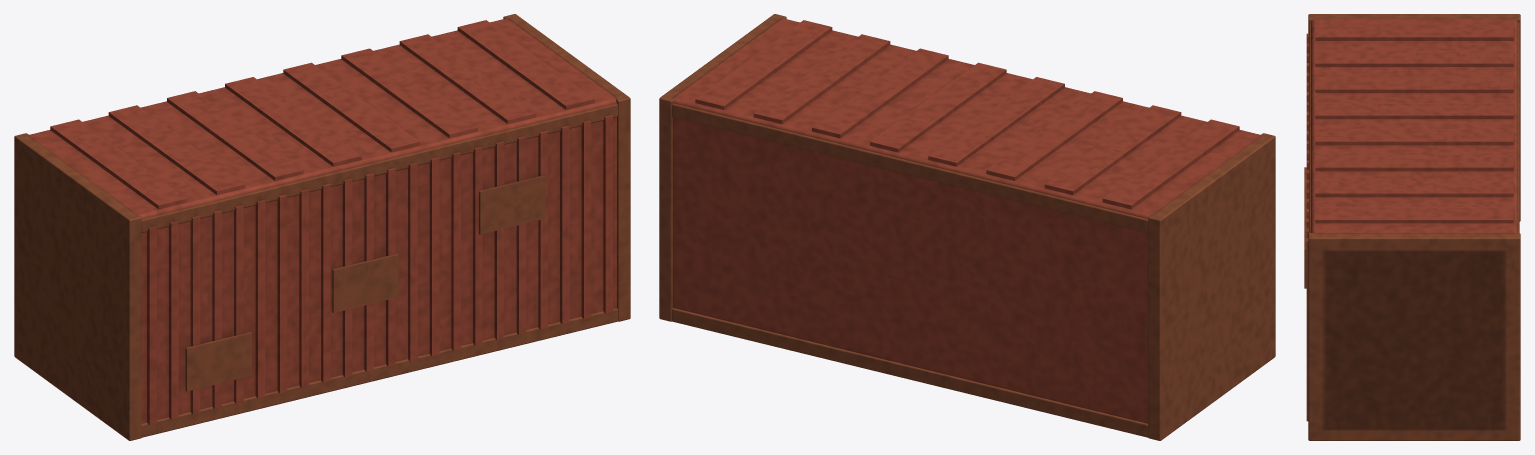
The model's file is container.glb.
3 renders of one model, left to right at view 1: azimuth 30°, elevation 25°; view 2: azimuth 150°, elevation 25°; view 3: azimuth 270°, elevation 25°, orthographic. The views are drawn at different scales.
Visible parts, largest first — view 1: Prop_container; view 2: Prop_container; view 3: Prop_container.
Part boxes in pixels (x1,y1,x2,y2): Prop_container: (14,14,630,440); Prop_container: (659,14,1275,440); Prop_container: (1304,14,1520,440).
Bounding box in the file's own units: 6.16 × 2.64 × 2.5.
Materials: 2 (2 with a texture image).
